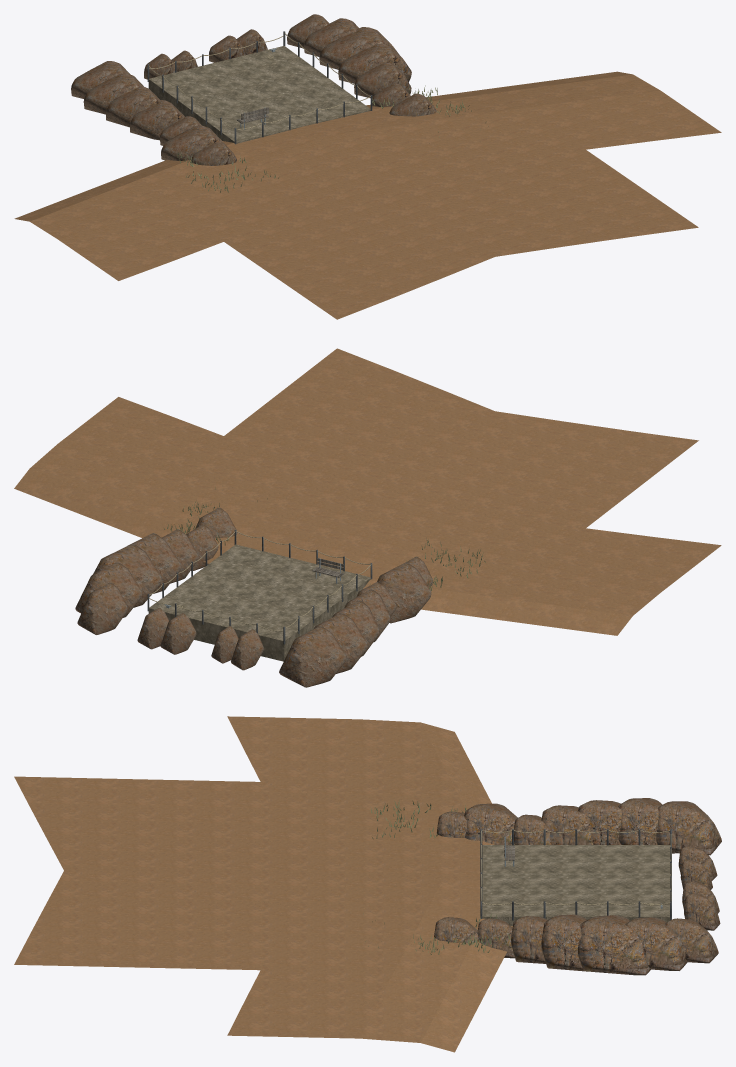
The model's file is simons_town_rocks.glb.
3 renders of one model, top to bottom at view 1: azimuth 30°, elevation 25°; view 2: azimuth 150°, elevation 25°; view 3: azimuth 270°, elevation 25°, orthographic. The views are drawn at different scales.
Visible parts, largest first — view 1: simons_town_rocks_BakedForeground, simons_town_rocks_grass, simons_town_rocks_rope; view 2: simons_town_rocks_BakedForeground, simons_town_rocks_grass, simons_town_rocks_rope; view 3: simons_town_rocks_BakedForeground, simons_town_rocks_grass, simons_town_rocks_rope.
Boxes of the visible parts, x1,y1,x2,y2 form: simons_town_rocks_BakedForeground: (14,14,721,319); simons_town_rocks_grass: (177,83,488,192); simons_town_rocks_rope: (149,32,370,129); simons_town_rocks_BakedForeground: (14,348,721,687); simons_town_rocks_grass: (164,487,485,590); simons_town_rocks_rope: (149,531,371,631); simons_town_rocks_BakedForeground: (14,716,721,1052); simons_town_rocks_grass: (363,800,510,954); simons_town_rocks_rope: (481,830,671,905).
Size of what is drawn, in the model's own units: 40 by 2.71 by 37.33.
Materials: 8 (5 with a texture image).
